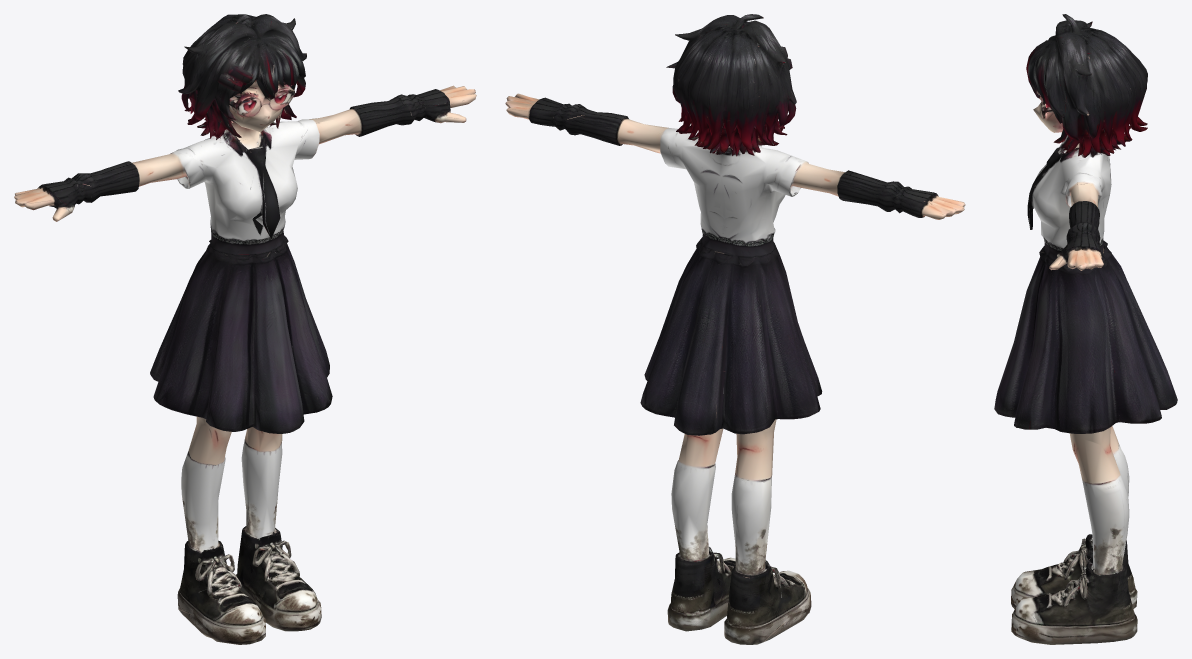
The model's file is Meshy_AI__0601143014_texture.fbx.
3 views of the same model, side by side, from view 1: azimuth 30°, elevation 25°; view 2: azimuth 150°, elevation 25°; view 3: azimuth 270°, elevation 25° (orthographic).
Visible parts, largest first — view 1: Mesh1.0; view 2: Mesh1.0; view 3: Mesh1.0.
Boxes of the visible parts, x1,y1,x2,y2 form: Mesh1.0: [14, 14, 476, 644]; Mesh1.0: [505, 14, 965, 644]; Mesh1.0: [994, 14, 1177, 644].
Size of the model in its own units: 152 by 191 by 53.05.
1 material, 1 textured.
